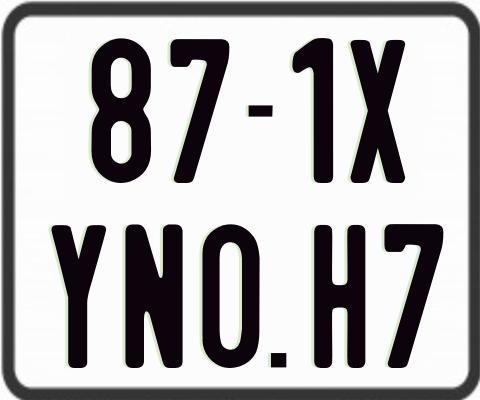0: (202, 221, 265, 371)
1: (292, 35, 333, 183)
7: (170, 37, 235, 182), (382, 222, 442, 372)
8: (88, 35, 154, 185)
H: (313, 224, 367, 368)
N: (123, 221, 187, 365)
X: (350, 40, 405, 189)
Y: (48, 222, 107, 371)
